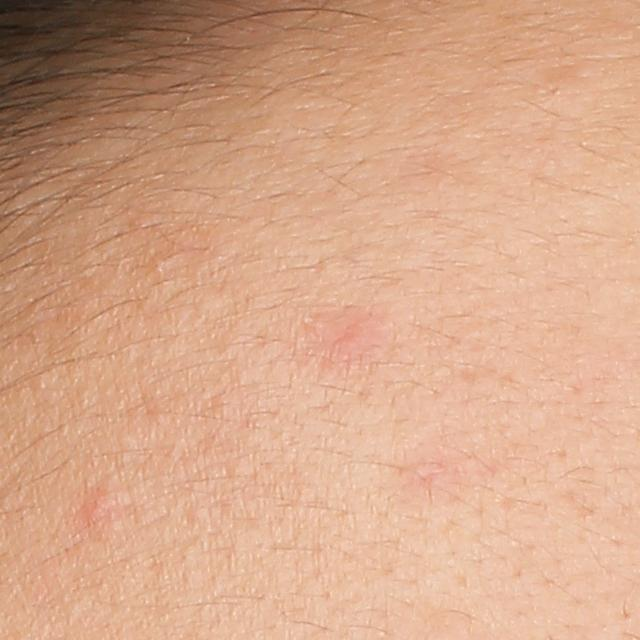papule: (82, 485, 115, 525)
